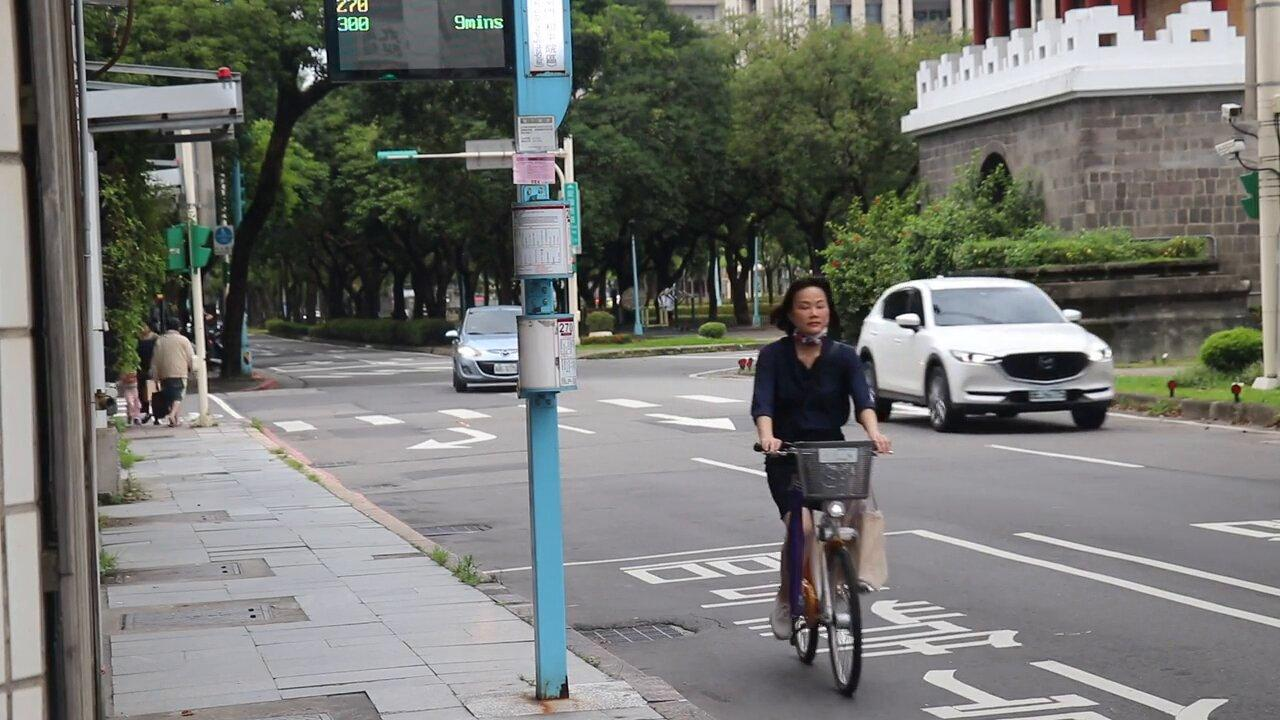bicyclist: (750, 274, 895, 700)
no-helmet: (770, 275, 841, 346)
